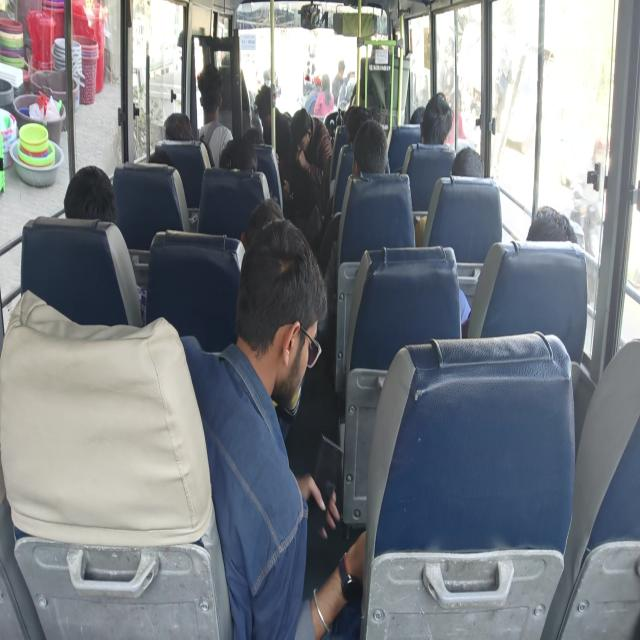person: (180, 218, 366, 638), (459, 204, 578, 337), (64, 164, 144, 324), (254, 83, 293, 199), (196, 64, 234, 168), (290, 107, 332, 187), (63, 164, 118, 224), (352, 119, 389, 176), (526, 204, 578, 243), (420, 91, 453, 145), (218, 137, 258, 171), (450, 146, 486, 178), (344, 105, 371, 145), (313, 73, 334, 118), (164, 112, 194, 140), (332, 59, 345, 105)
